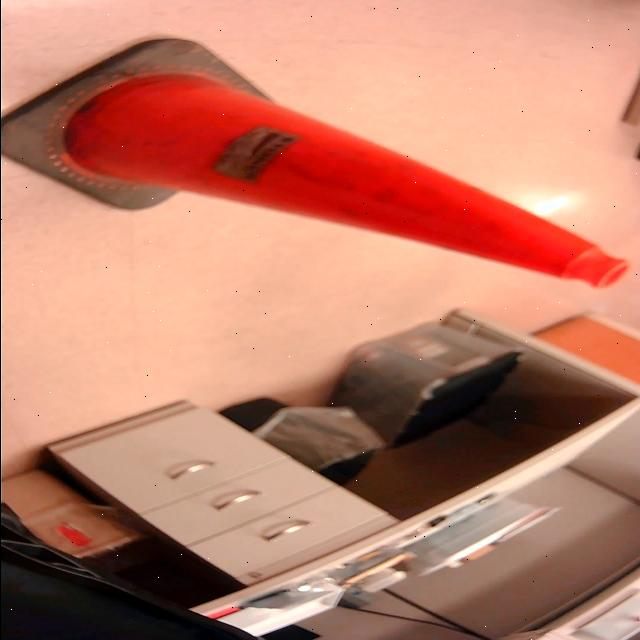traffic cone: (1, 35, 639, 294)
